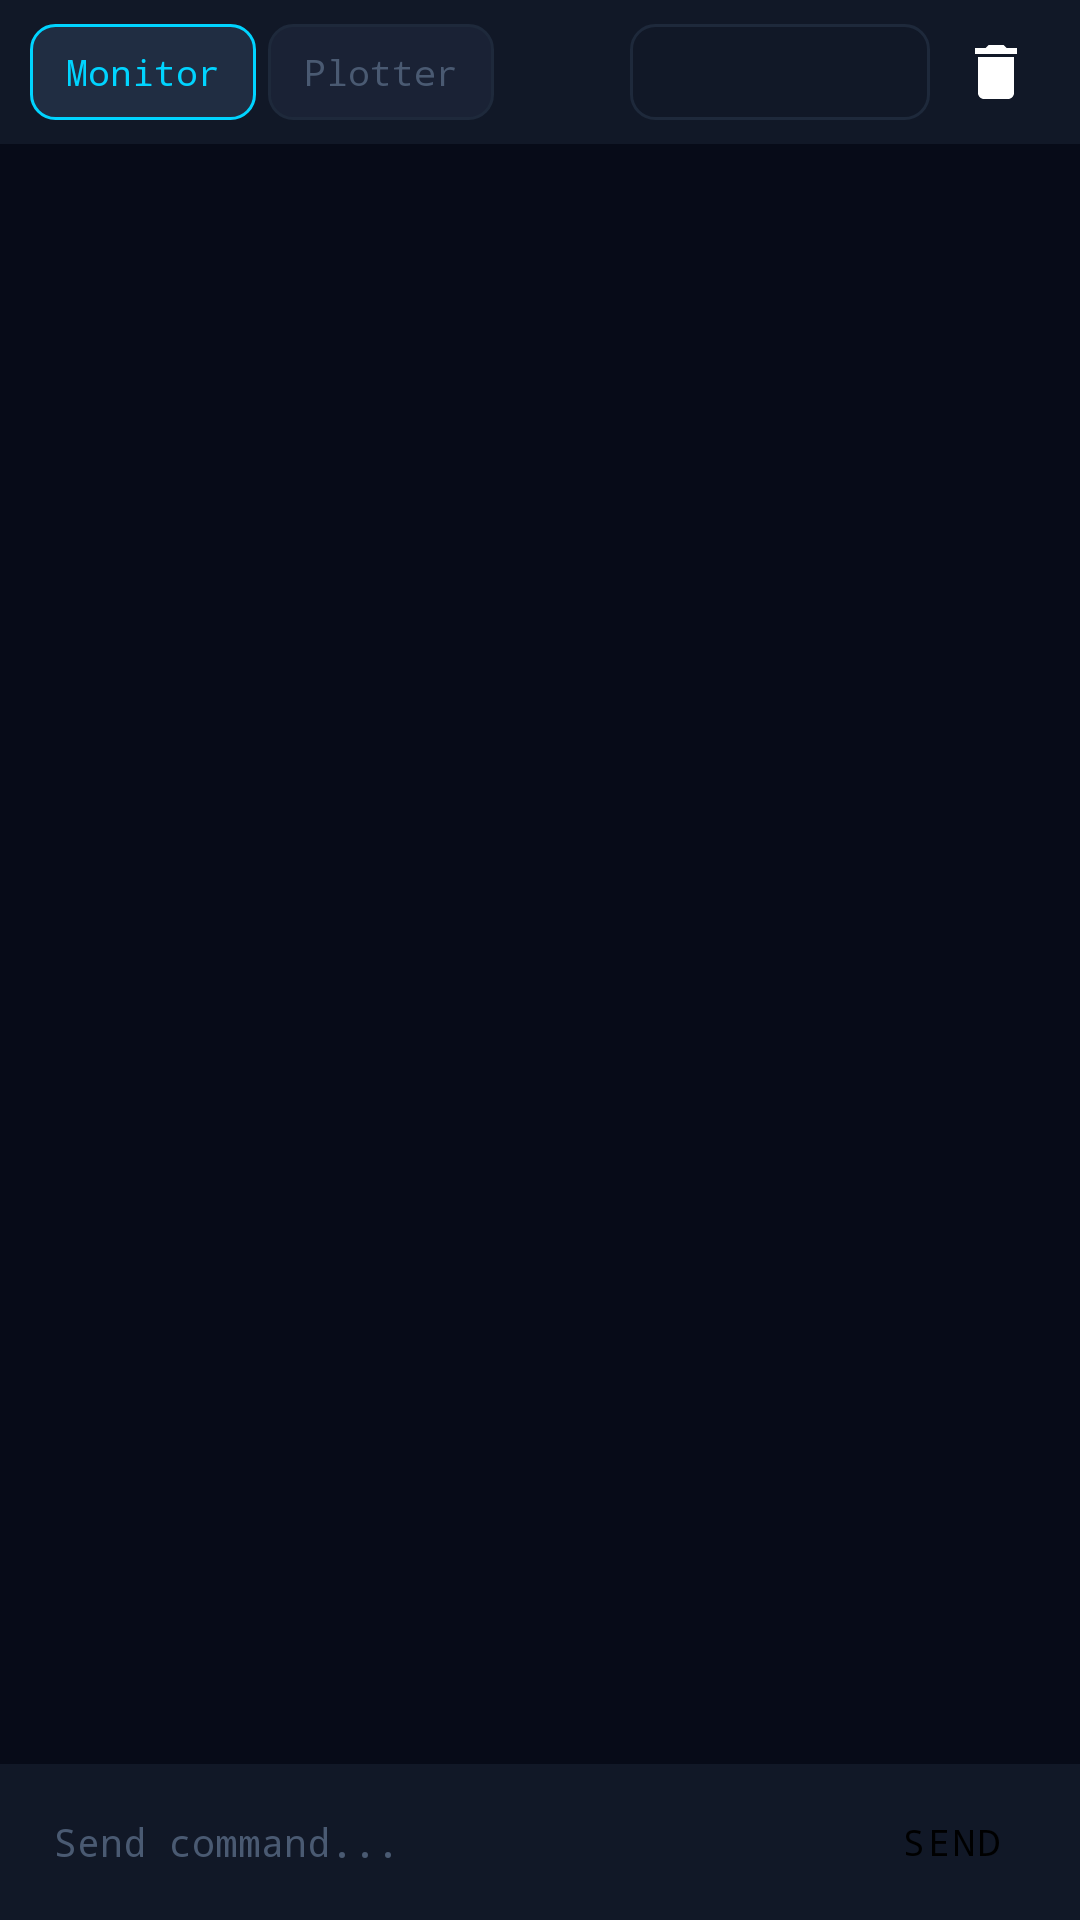

Screen size 1080 × 1920. Icon name, then its box in pixels as (left=x1, top=y1, right=x2, bottom=y2):
clear: (left=975, top=45, right=1017, bottom=99)
